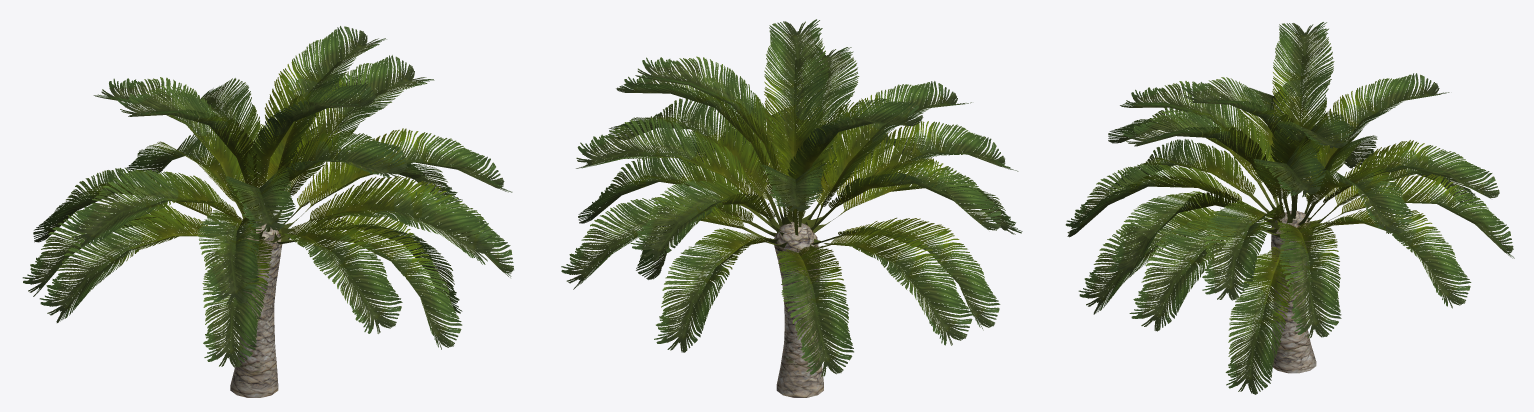
3 renders of one model, left to right at view 1: azimuth 30°, elevation 25°; view 2: azimuth 150°, elevation 25°; view 3: azimuth 270°, elevation 25°, orthographic. The views are drawn at different scales.
Visible parts, largest first — view 1: Mesh Object; view 2: Mesh Object; view 3: Mesh Object.
Boxes of the visible parts, box(x1,y1,x2,y2) form: Mesh Object: box(22, 26, 513, 397); Mesh Object: box(561, 19, 1022, 397); Mesh Object: box(1065, 22, 1514, 394).
Bounding box in the file's own units: 23.79 × 17.02 × 23.26.
